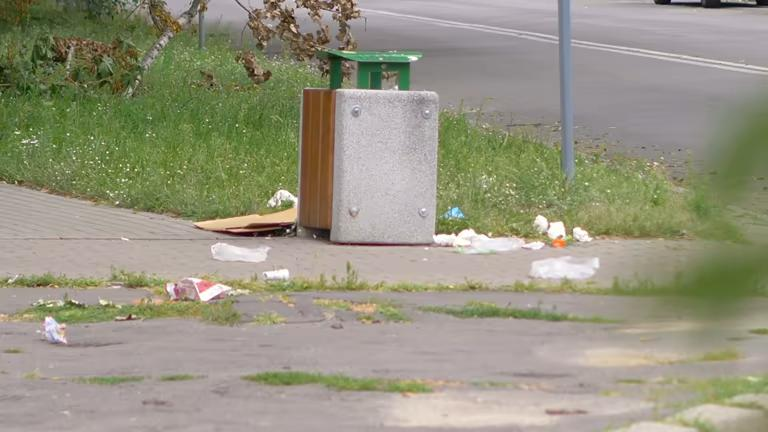trash: (190, 198, 303, 245), (423, 218, 546, 260), (531, 252, 605, 284), (163, 275, 233, 306), (265, 176, 305, 214), (35, 311, 74, 343), (434, 198, 474, 223), (262, 265, 293, 287), (526, 205, 550, 230), (523, 227, 541, 253), (548, 219, 565, 244), (575, 225, 590, 244)
trash_can_overflow: (230, 27, 577, 262)
